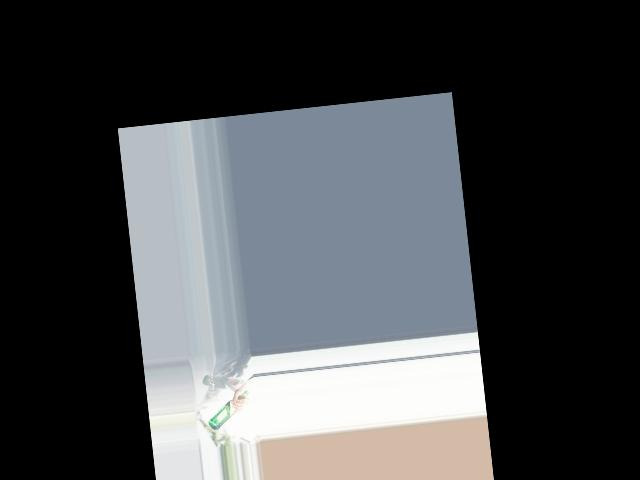beer: (204, 389, 252, 430)
